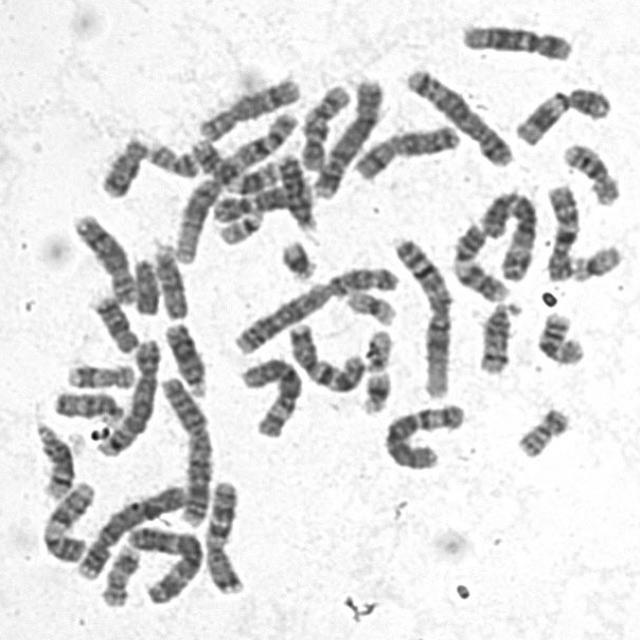A1: (164, 100, 301, 267), (386, 229, 456, 402)
A2: (225, 258, 402, 356), (154, 368, 215, 528)
A3: (120, 519, 206, 605), (472, 184, 540, 282)
B4: (70, 478, 191, 582), (306, 70, 387, 200)
B5: (398, 59, 516, 168), (90, 330, 163, 458)
C10: (292, 75, 353, 171), (538, 176, 583, 284)
C11: (506, 78, 614, 147), (184, 132, 282, 194)
C12: (454, 15, 576, 62), (207, 172, 316, 224)
C6: (376, 394, 468, 470), (232, 348, 305, 439)
C7: (282, 314, 368, 394), (198, 472, 247, 596)
C8: (192, 68, 303, 141), (65, 206, 140, 306)
C9: (444, 215, 513, 304), (34, 474, 97, 564)
D13: (156, 314, 210, 398), (270, 146, 320, 232)
D14: (26, 414, 78, 502), (470, 293, 524, 377)
D15: (148, 236, 192, 322), (47, 384, 128, 424)
E16: (555, 134, 623, 207), (531, 304, 588, 366)
E17: (94, 537, 142, 609), (60, 354, 138, 390)
E18: (92, 130, 150, 200), (83, 288, 140, 354)
F19: (563, 236, 625, 284), (339, 282, 400, 328)
F20: (510, 400, 573, 460), (140, 134, 201, 179)
G21: (273, 232, 320, 282), (354, 364, 394, 416)
G22: (210, 204, 267, 246), (357, 322, 396, 374)
X: (346, 117, 462, 182)
Y: (126, 250, 161, 316)
